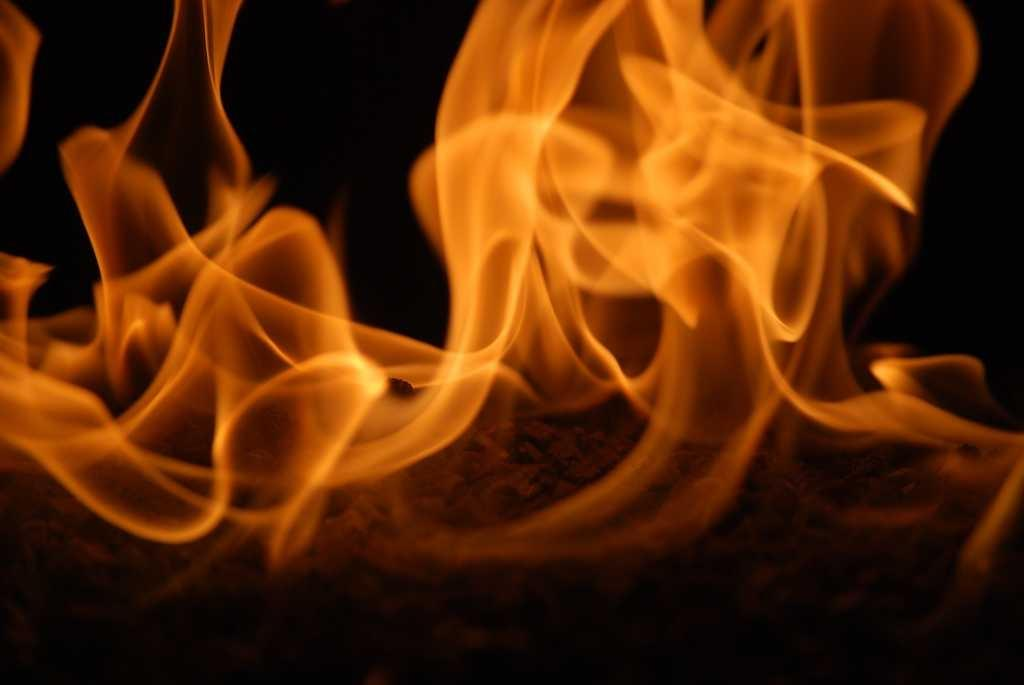fire: (446, 28, 916, 505), (16, 151, 380, 533)
